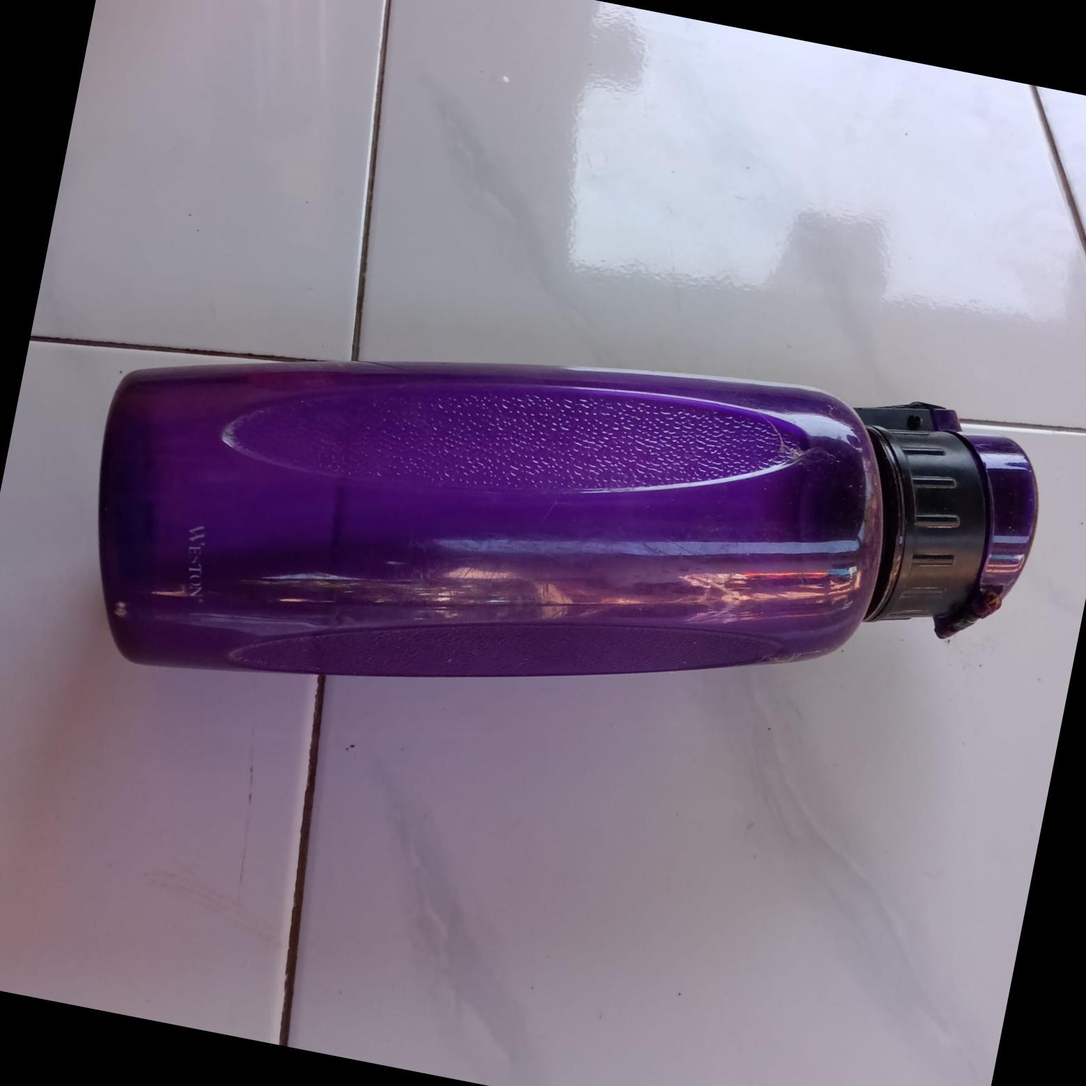Plastik: (58, 246, 1053, 828)
